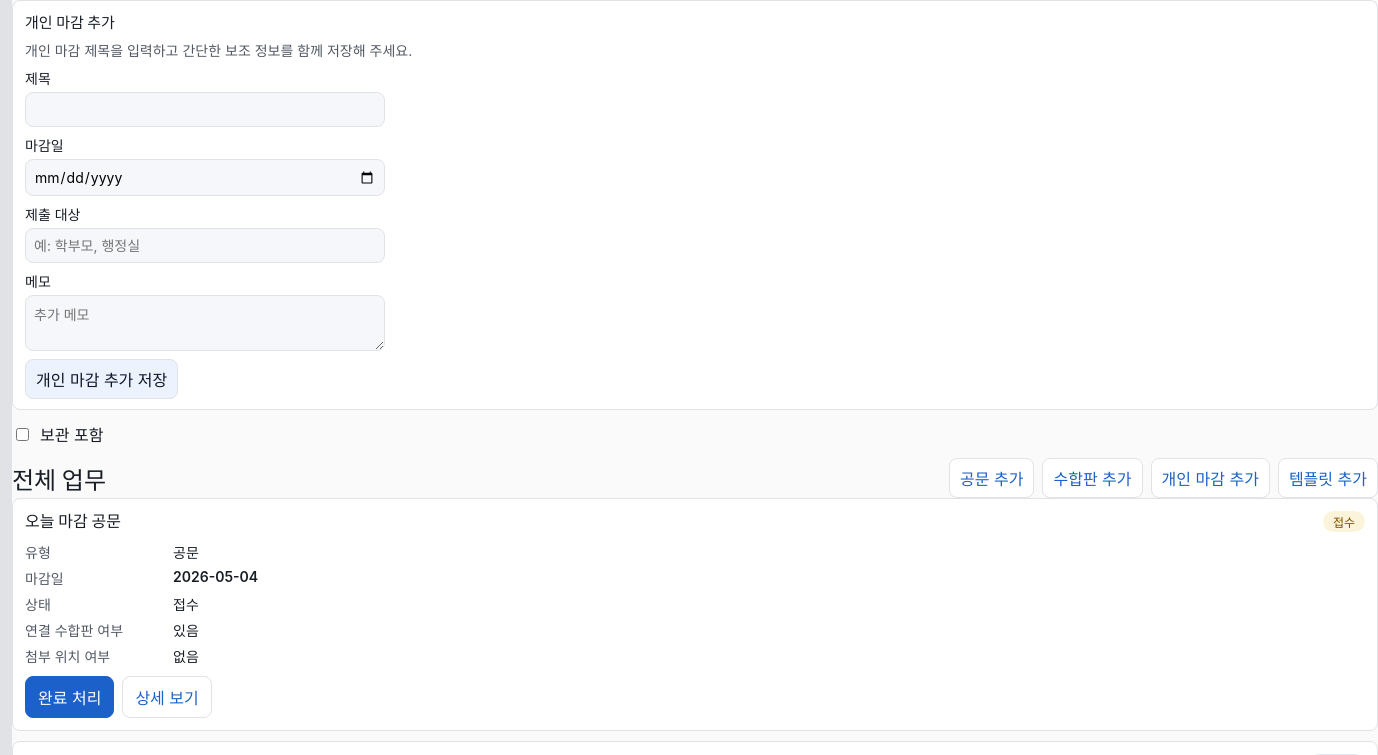
Test case: TaskListPage create intent form › creates personal due with PERSONAL calendarCategory
Step 1. Type "개인 제출물 마감 체크" into the field labelled "제목" → [205, 110], box [25,92,385,127]
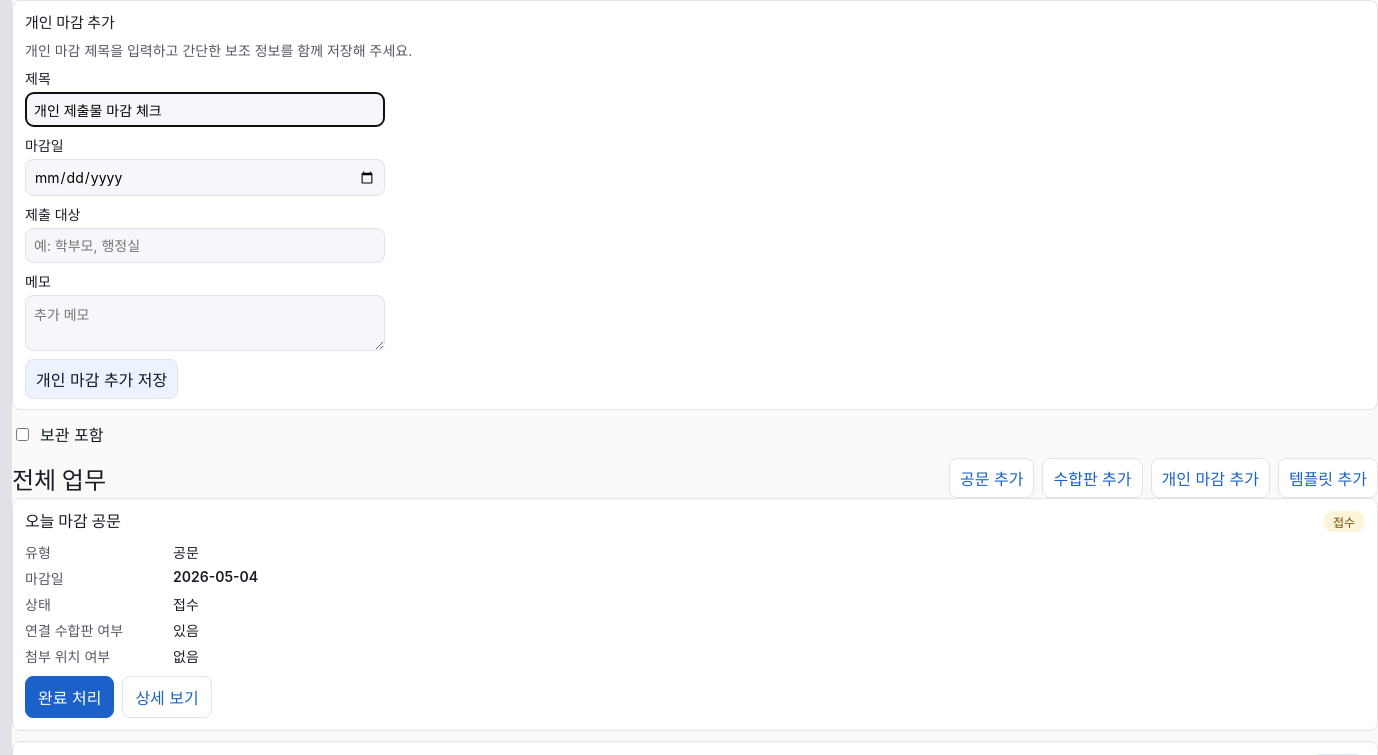
Step 2. Type "2026-06-01" into the date field labelled "마감일" → [205, 178], box [25,159,385,196]
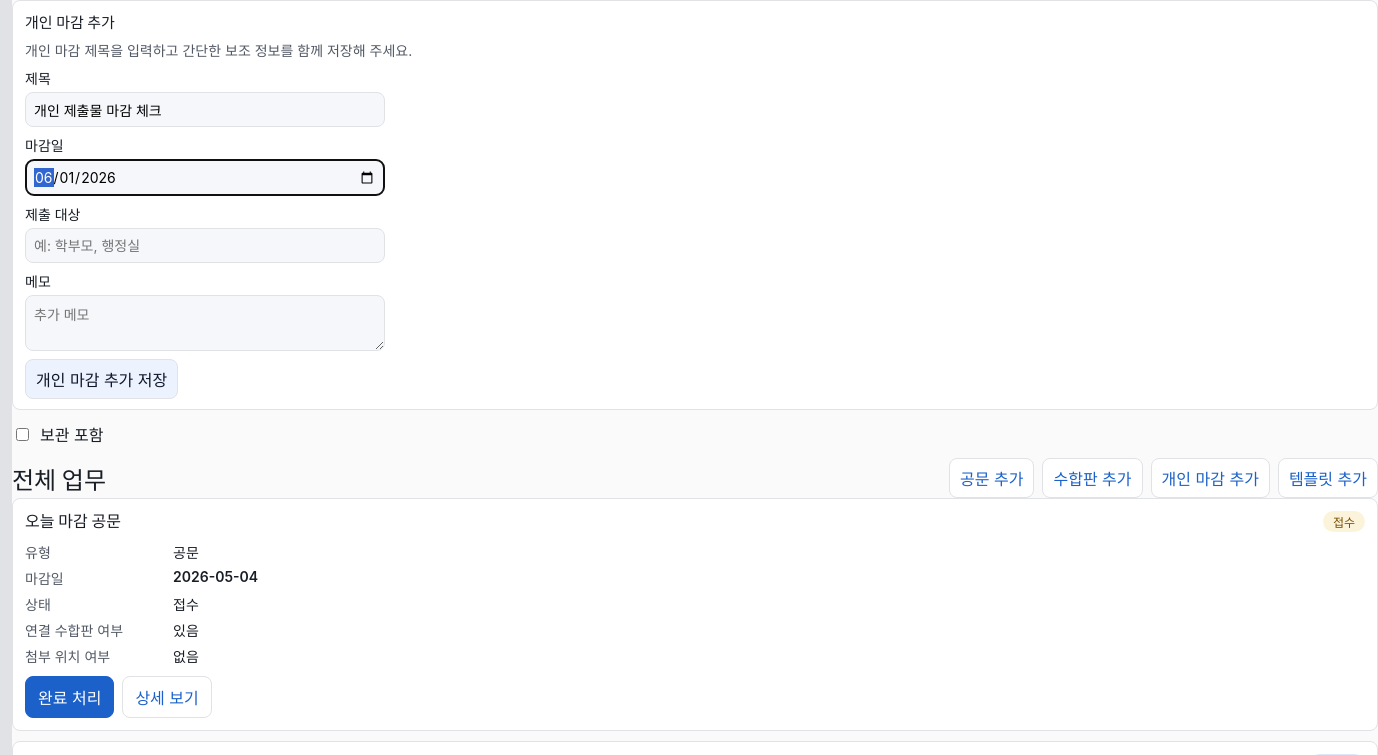
Step 3. Type "점검 필요" into the text box labelled "메모" → [205, 323], box [25,295,385,351]
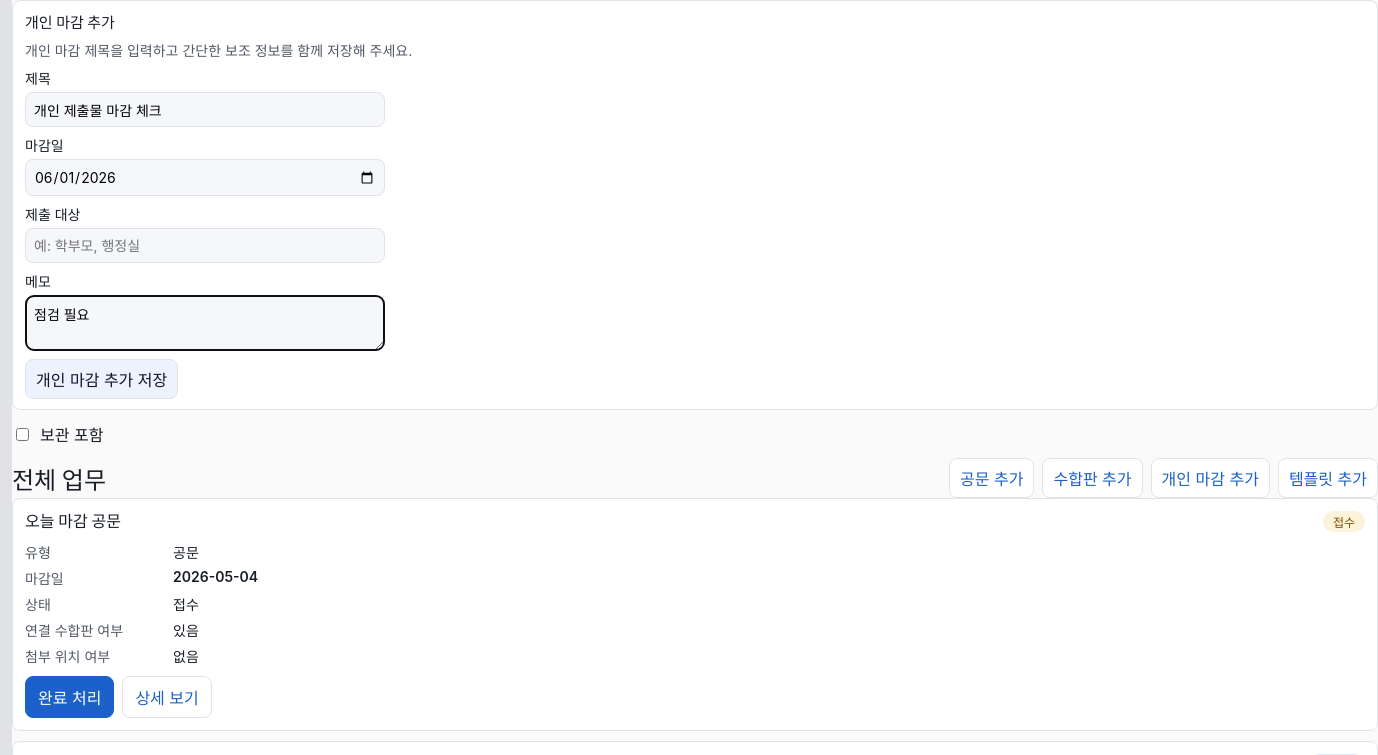
Step 4. Click the button "개인 마감 추가 저장" → [102, 379], box [25,359,178,399]
(page scrolled)
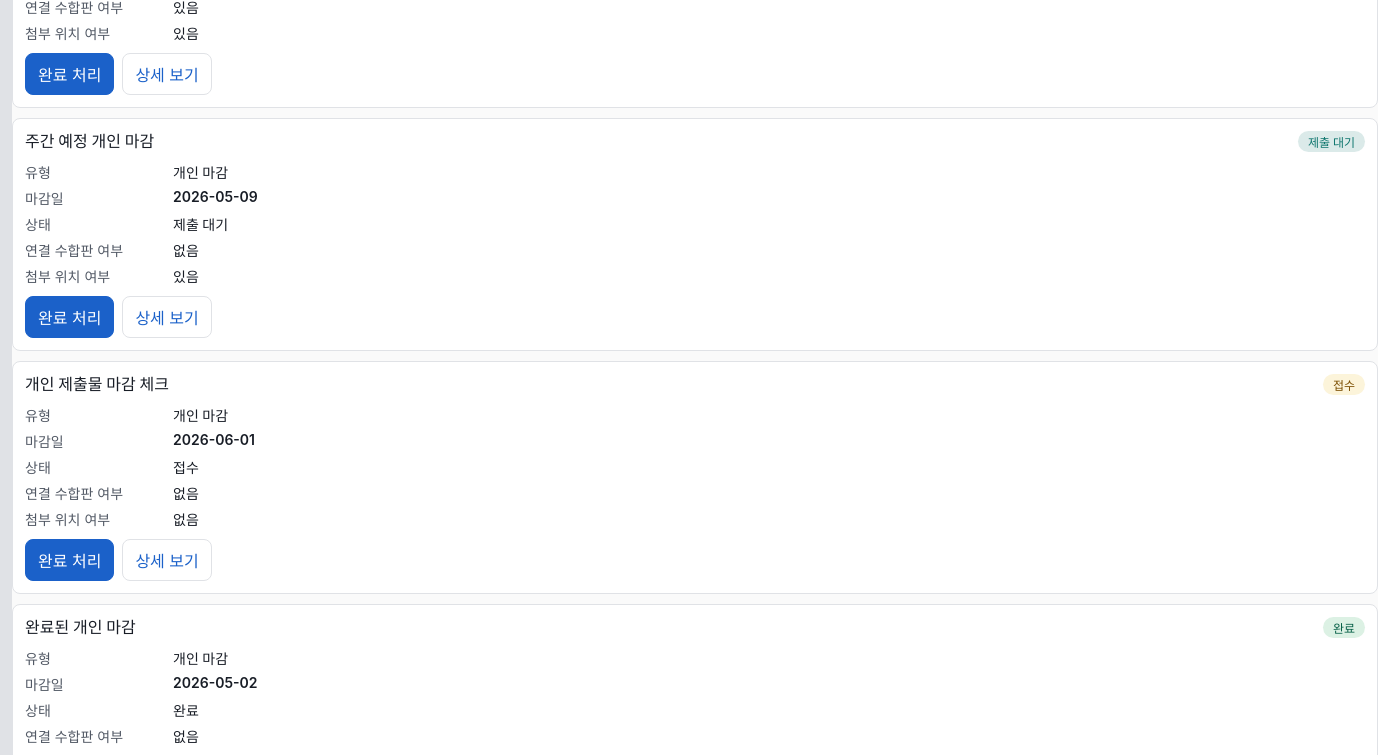
Expected: the heading "개인 제출물 마감 체크" is shown, [25,374,169,395]
